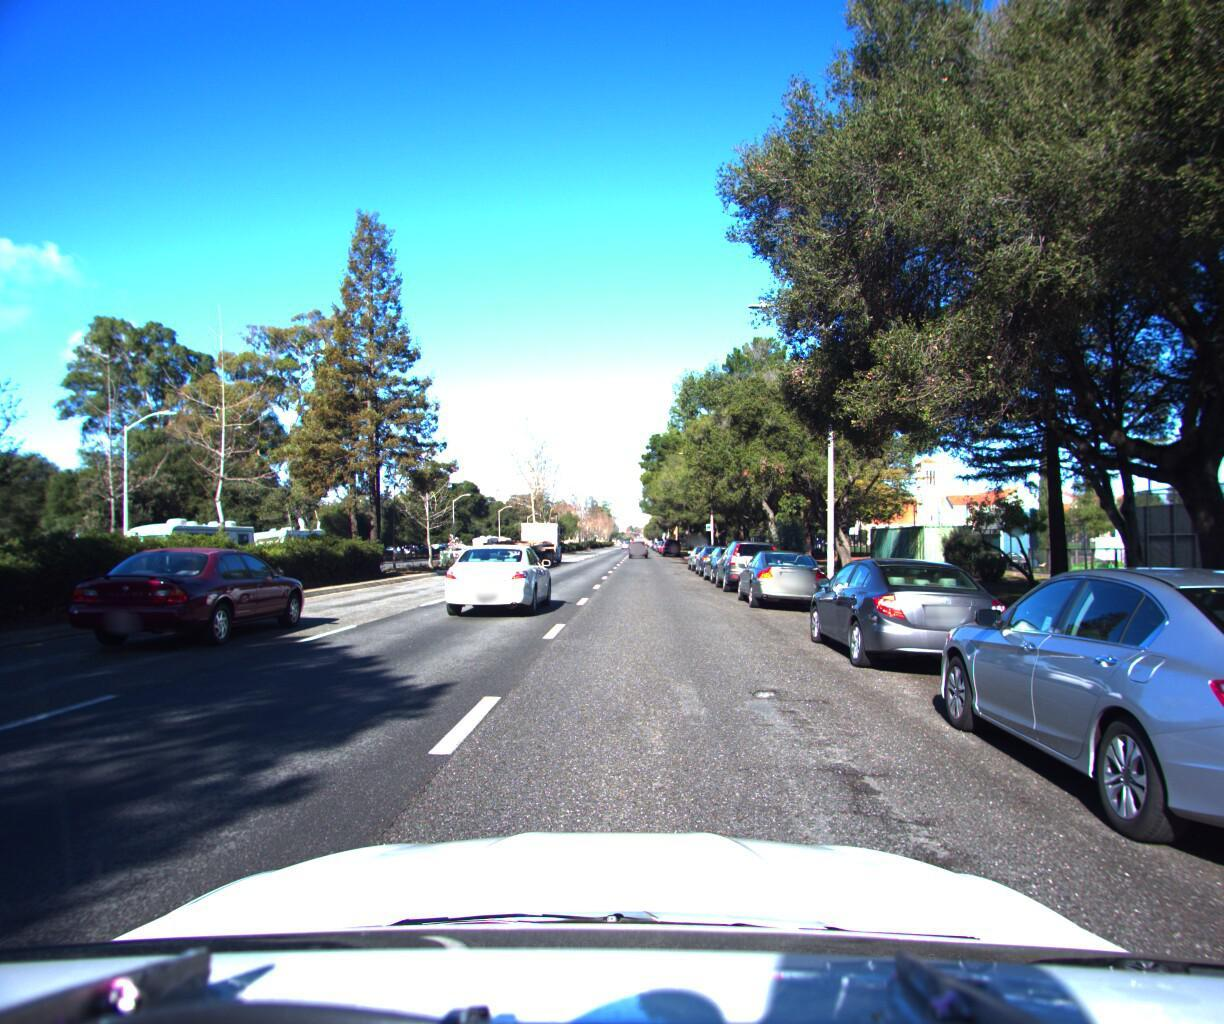car: (910, 548, 1224, 945), (64, 543, 316, 662), (800, 546, 1024, 678), (438, 540, 556, 626), (733, 540, 834, 610), (710, 532, 787, 587), (700, 536, 762, 578), (691, 536, 739, 571), (683, 536, 725, 565), (627, 530, 649, 551)
other_vehicle: (117, 513, 259, 581), (245, 519, 331, 571)
truck: (470, 496, 568, 577)
